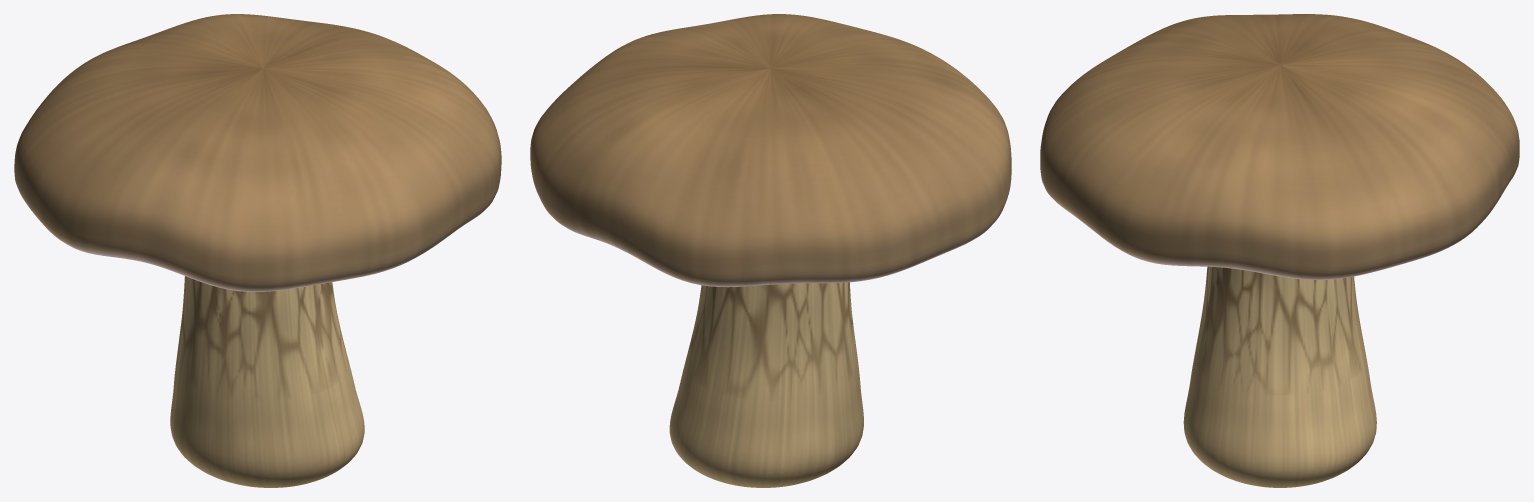
Rendered from tylopilus-felleus-drawn.glb.
3 views of the same model, side by side, from view 1: azimuth 30°, elevation 25°; view 2: azimuth 150°, elevation 25°; view 3: azimuth 270°, elevation 25° (orthographic).
Size of the model in its own units: 0.8647 by 0.7904 by 0.8627.
1 material, 1 textured.
